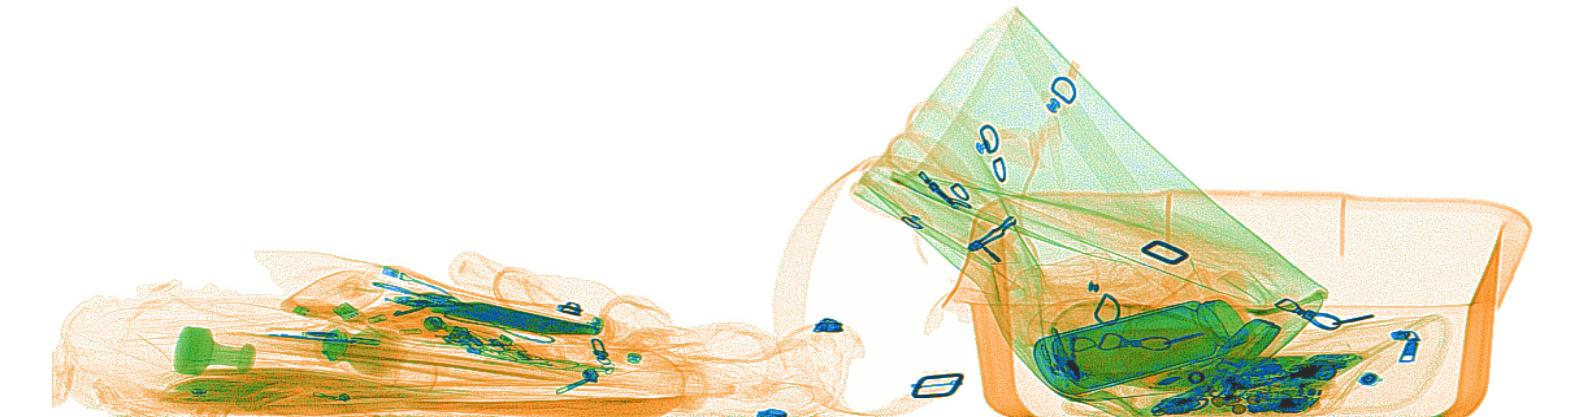seal: (318, 326, 404, 381), (171, 325, 257, 377)
